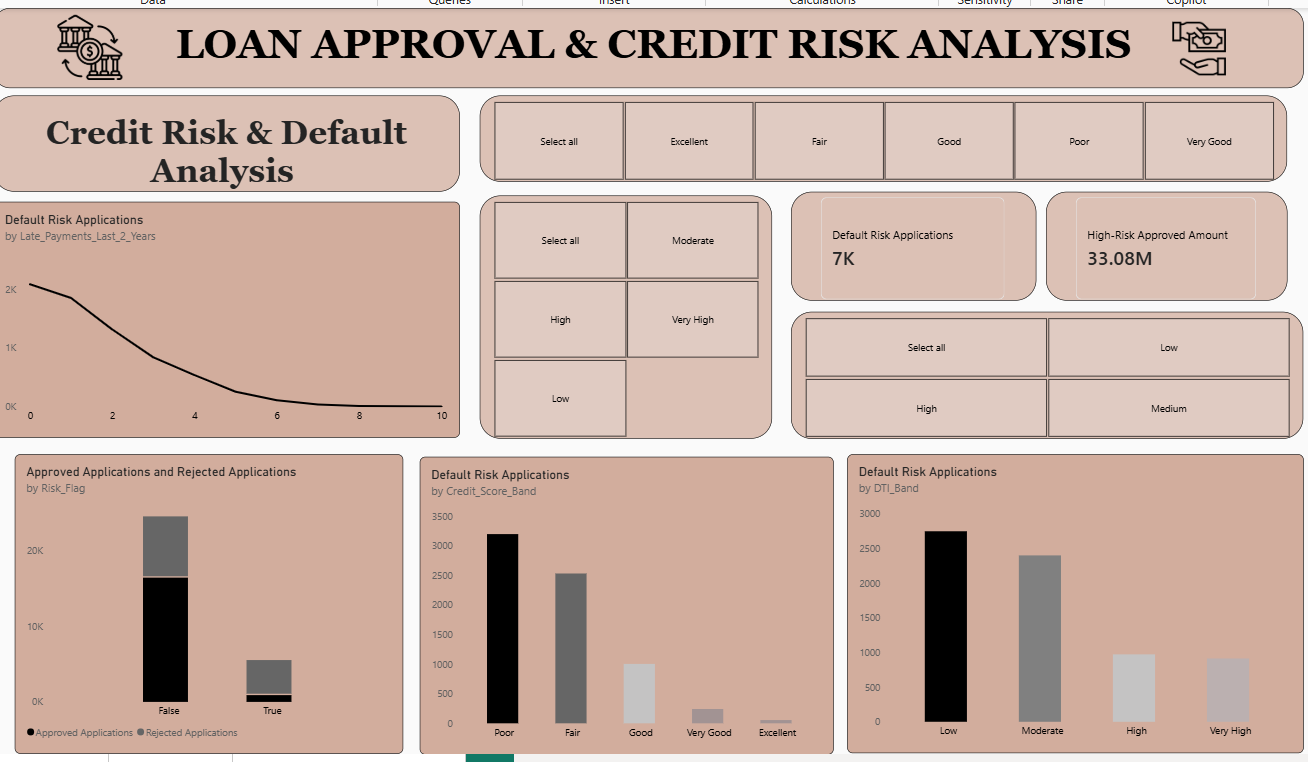

The dashboard page shown, as its layout file describes it:
{"tool":"powerbi","page":{"name":"Credit Risk","canvas":[1920,1080],"ordinal":1},"visuals":[{"type":"textbox","box":[10,0,280,280],"z":0},{"type":"textbox","box":[10.9,0,1896.5,115.8],"z":1000},{"type":"textbox","box":[10.9,126.7,675,139.3],"z":2000},{"type":"cardVisual","fields":{"Data":["loans.Default Risk Applications"]},"box":[1164.5,265.5,354.9,157.7],"z":5000},{"type":"cardVisual","fields":{"Data":["loans.High-Risk Approved Amount"]},"box":[1535.2,265.5,349.6,157.7],"z":8000},{"type":"image","box":[103.2,9,94.1,95.9],"z":9000},{"type":"image","box":[1663.1,19.9,186.4,77.8],"z":10000},{"type":"clusteredColumnChart","fields":{"Category":["loans.Credit_Score_Band"],"Y":["loans.Default Risk Applications"]},"box":[628.3,649.3,599.4,431.1],"z":11000},{"type":"clusteredColumnChart","fields":{"Category":["loans.DTI_Band"],"Y":["loans.Default Risk Applications"]},"box":[1246,646.7,660.5,432.5],"z":12000},{"type":"lineChart","fields":{"Category":["loans.Late_Payments_Last_2_Years"],"Y":["loans.Default Risk Applications"]},"box":[10.5,281.3,675.6,341.7],"z":13000},{"type":"slicer","fields":{"Values":["loans.DTI_Band"]},"box":[715,270.8,423.2,352.2],"z":14000},{"type":"slicer","fields":{"Values":["loans.Default_Risk"]},"box":[1164.5,439,741.3,184],"z":15000},{"type":"slicer","fields":{"Values":["loans.Credit_Score_Band"]},"box":[715,126.2,1169,124.9],"z":16000},{"type":"columnChart","fields":{"Category":["loans.Risk_Flag"],"Y":["loans.Approved Applications","loans.Rejected Applications"]},"box":[42.1,646.7,562.5,433.7],"z":16001}]}

Visuals, with their boxes on the page's 1920x1080 design canvas (x1, y1, x2, y2). These are canvas units, not pixel positions in the 1308x762 screenshot, which may show the page scaled, cropped or inside an application window:
textbox: [x1=10, y1=0, x2=290, y2=280]
textbox: [x1=11, y1=0, x2=1907, y2=116]
textbox: [x1=11, y1=127, x2=686, y2=266]
cardVisual - loans.Default Risk Applications: [x1=1164, y1=266, x2=1519, y2=423]
cardVisual - loans.High-Risk Approved Amount: [x1=1535, y1=266, x2=1885, y2=423]
image: [x1=103, y1=9, x2=197, y2=105]
image: [x1=1663, y1=20, x2=1850, y2=98]
clusteredColumnChart - loans.Credit_Score_Band x loans.Default Risk Applications: [x1=628, y1=649, x2=1228, y2=1080]
clusteredColumnChart - loans.DTI_Band x loans.Default Risk Applications: [x1=1246, y1=647, x2=1906, y2=1079]
lineChart - loans.Late_Payments_Last_2_Years x loans.Default Risk Applications: [x1=10, y1=281, x2=686, y2=623]
slicer - loans.DTI_Band: [x1=715, y1=271, x2=1138, y2=623]
slicer - loans.Default_Risk: [x1=1164, y1=439, x2=1906, y2=623]
slicer - loans.Credit_Score_Band: [x1=715, y1=126, x2=1884, y2=251]
columnChart - loans.Risk_Flag x loans.Approved Applications: [x1=42, y1=647, x2=605, y2=1080]
